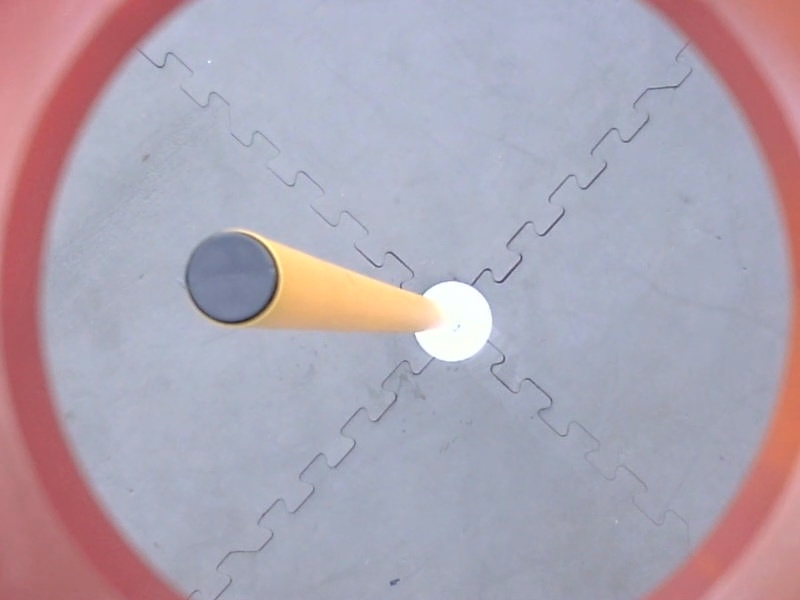tip: (179, 226, 286, 332)
